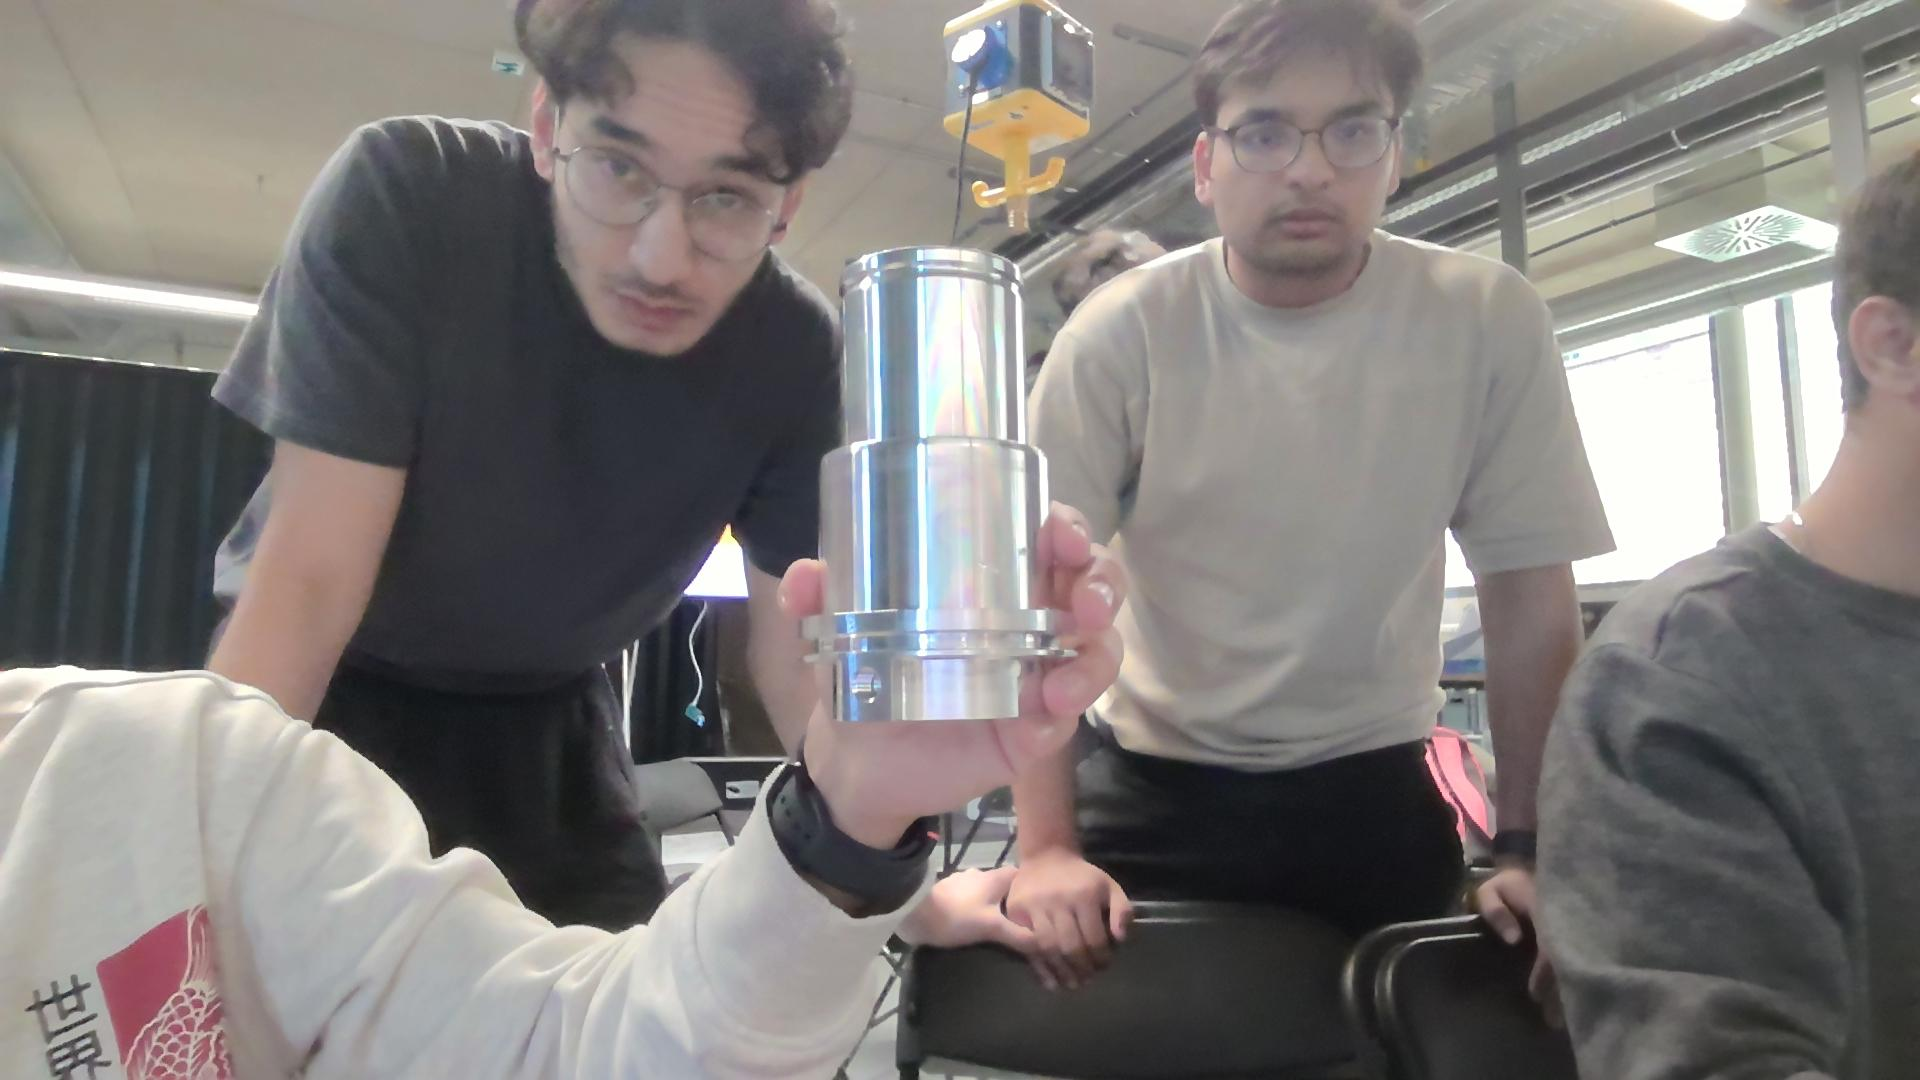damage: (969, 538, 1033, 580)
objects: (802, 244, 1089, 731)
